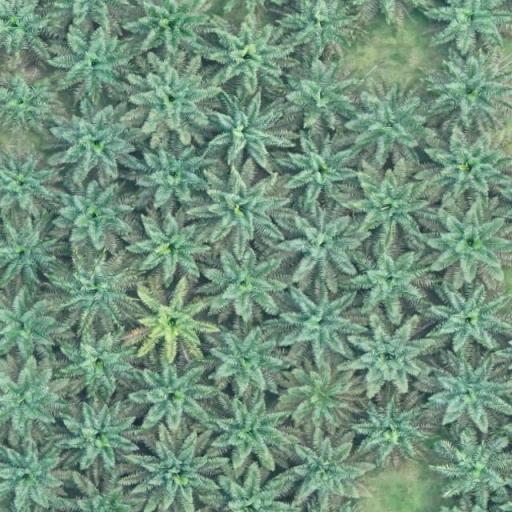Ganoderma: (146, 298, 199, 347)
